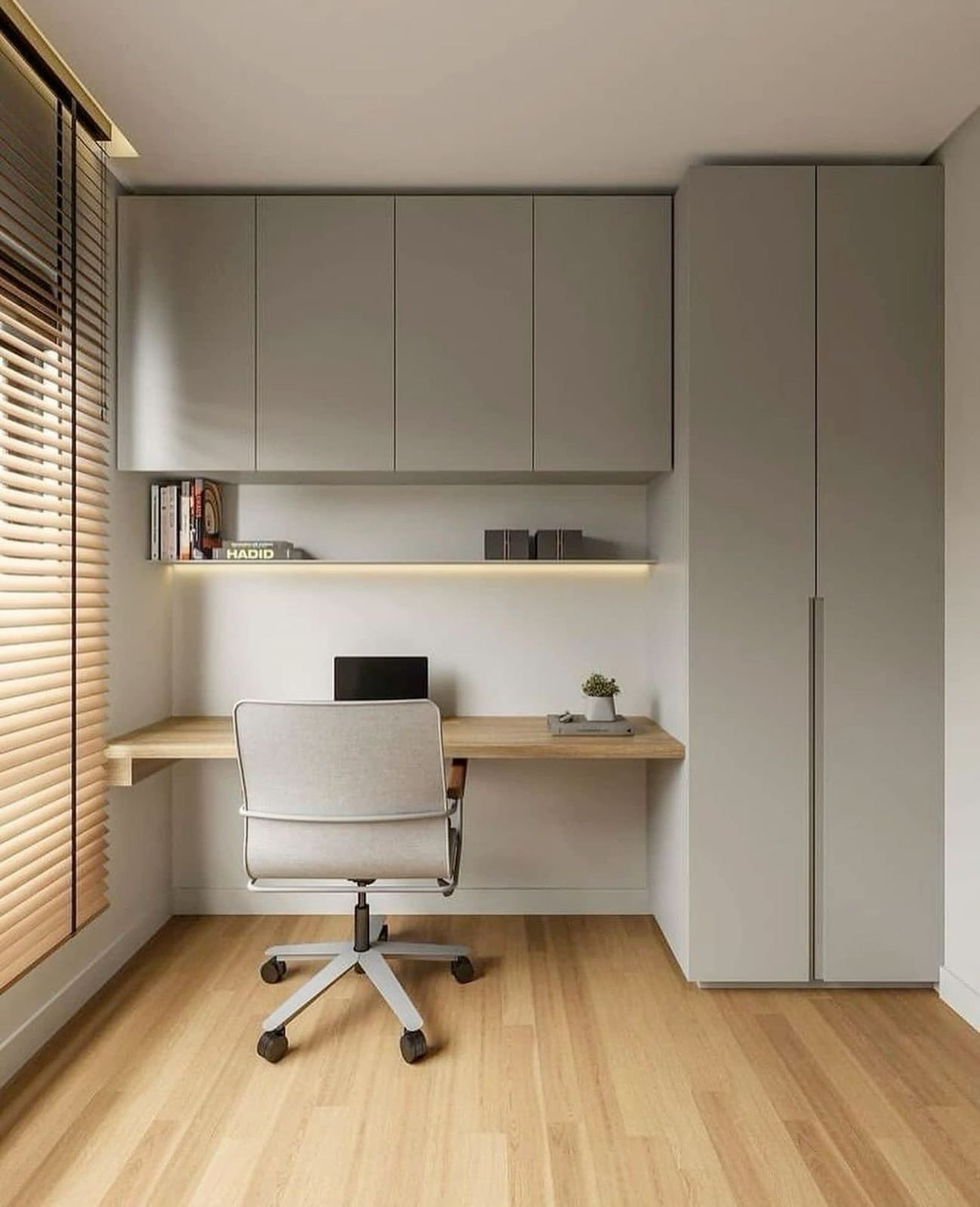not a gesture sign: (0, 0, 945, 987)
